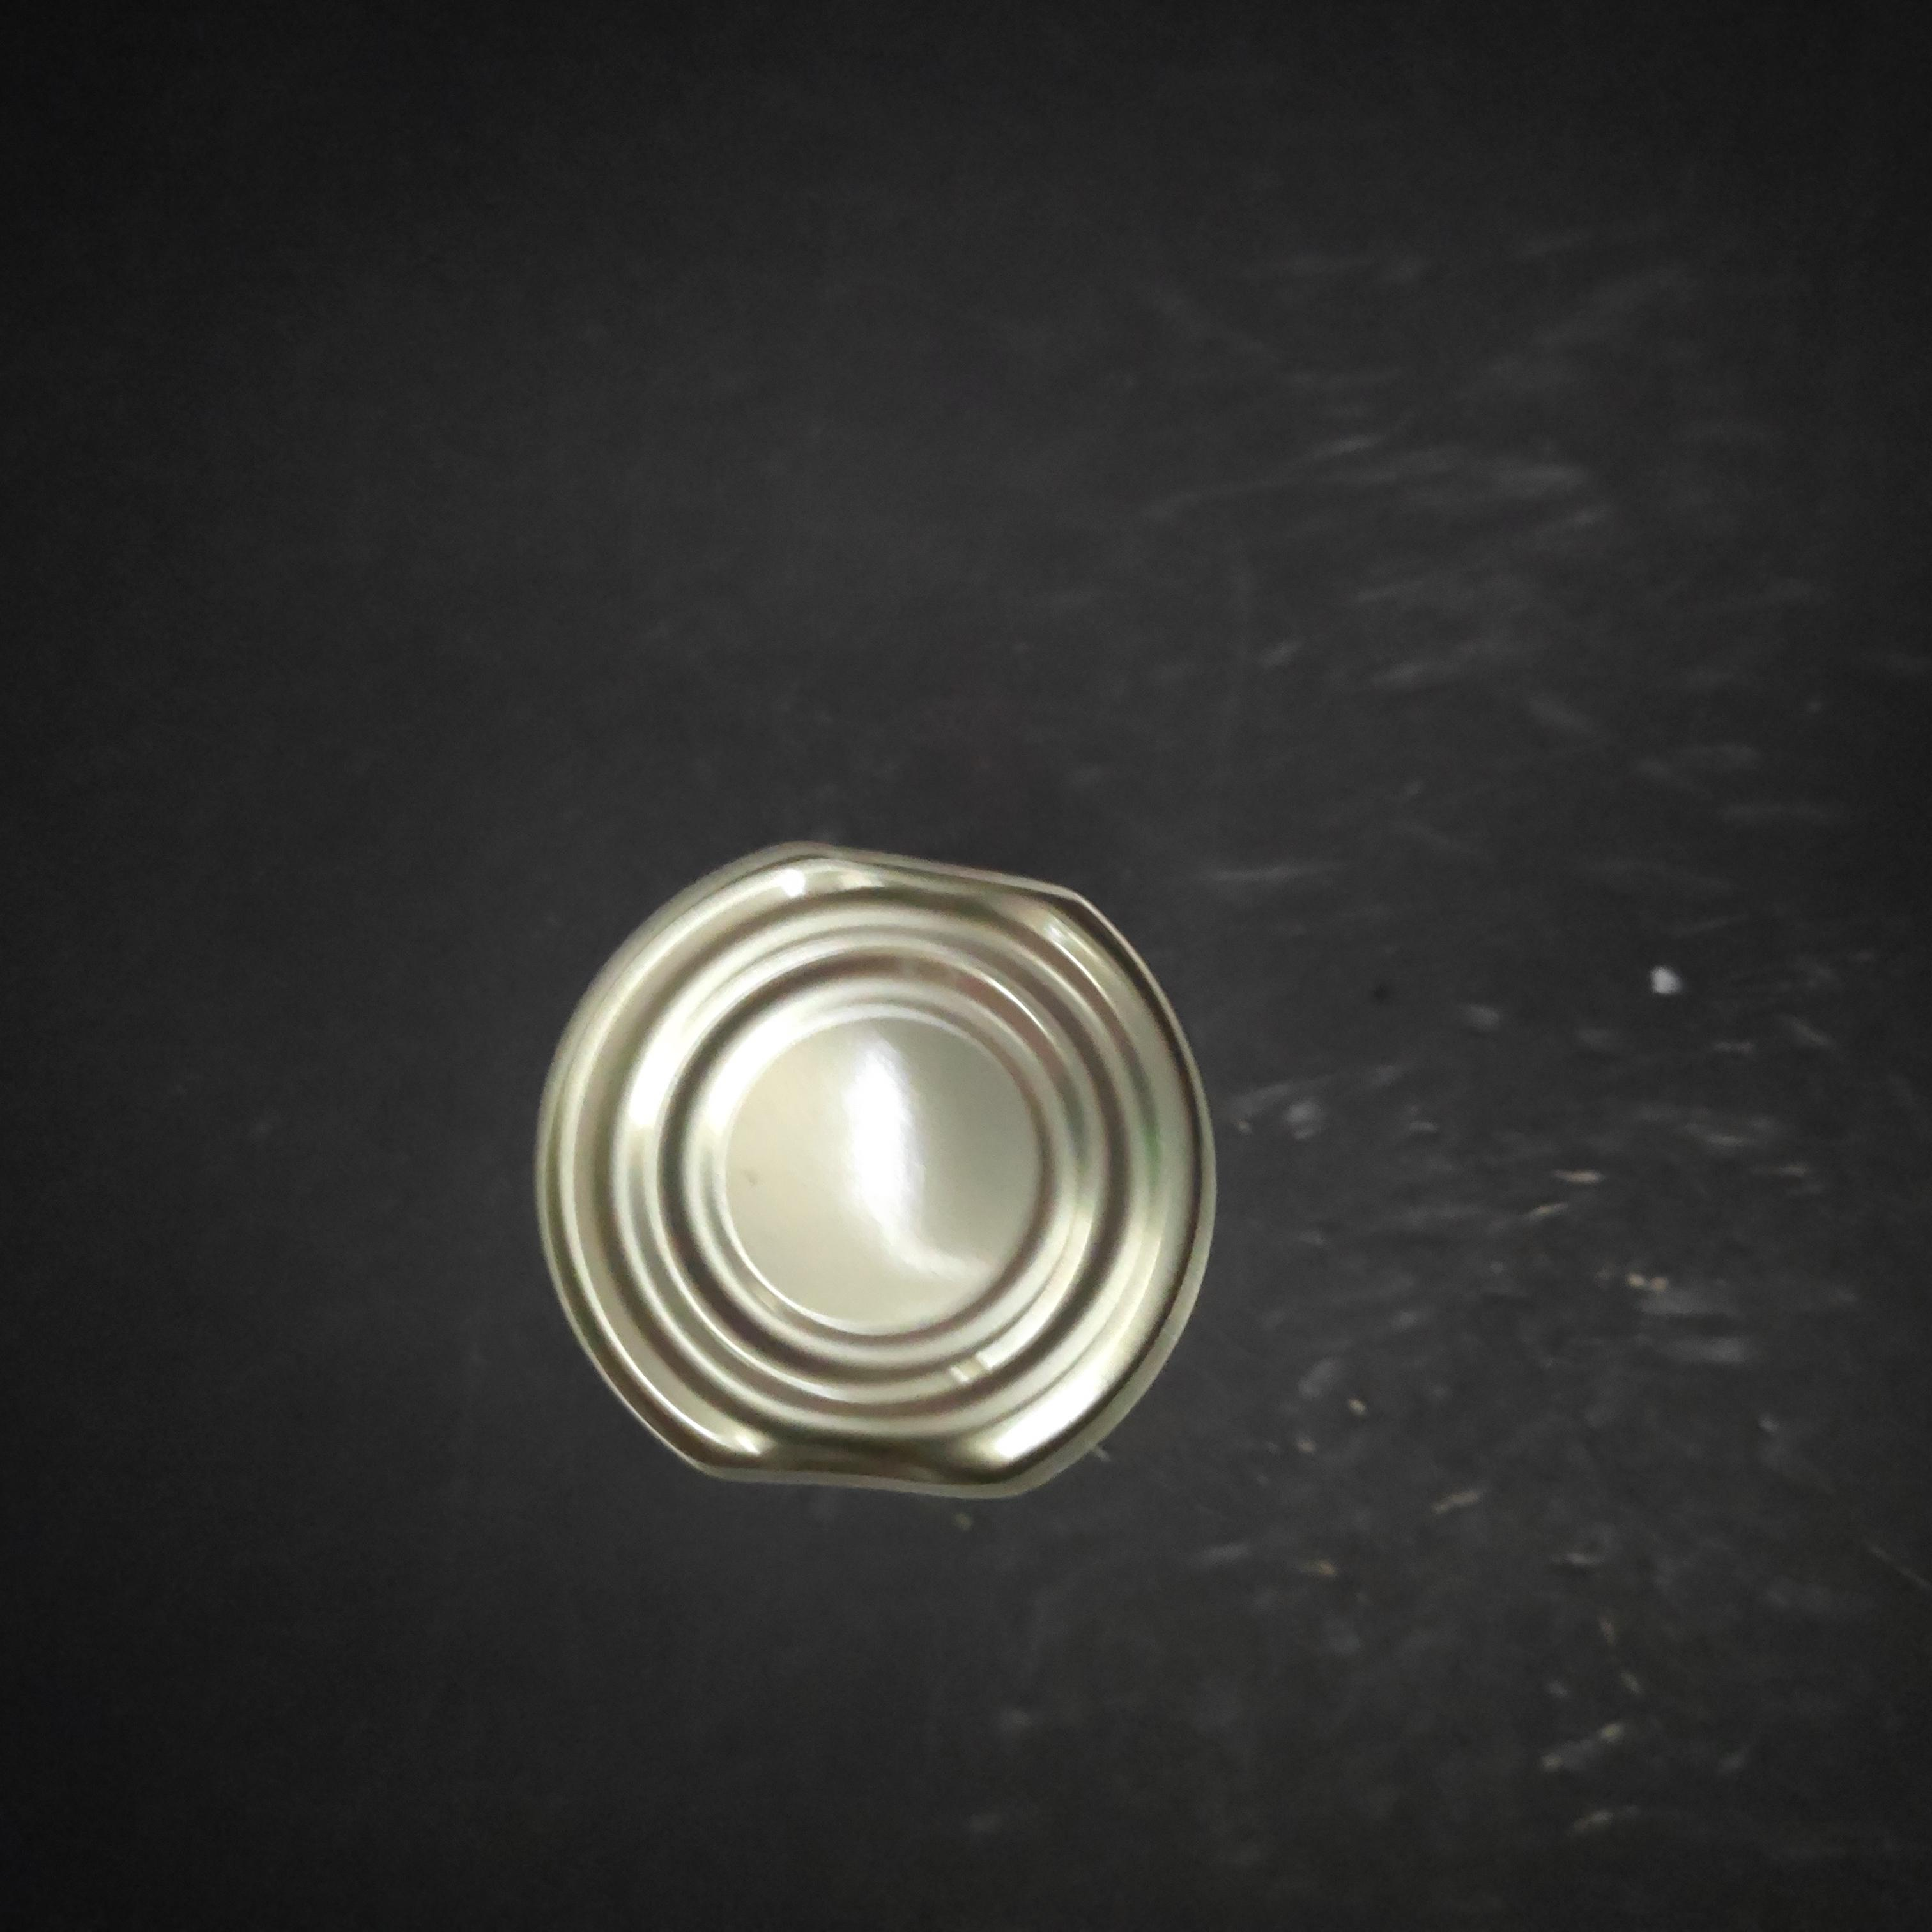Minor Defect: (704, 412, 1419, 1102)
